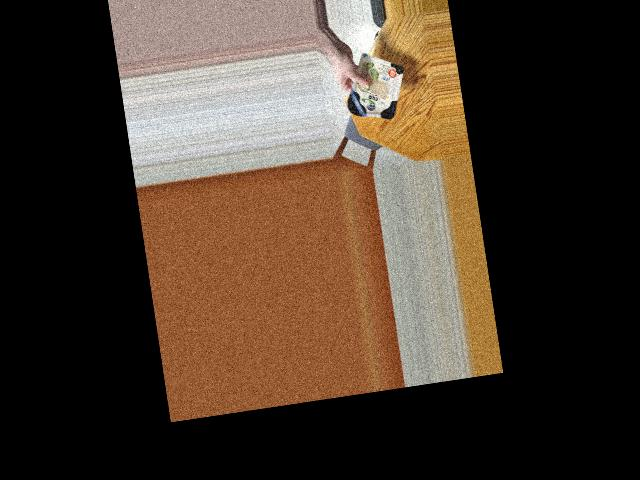cheese: (344, 59, 408, 127)
